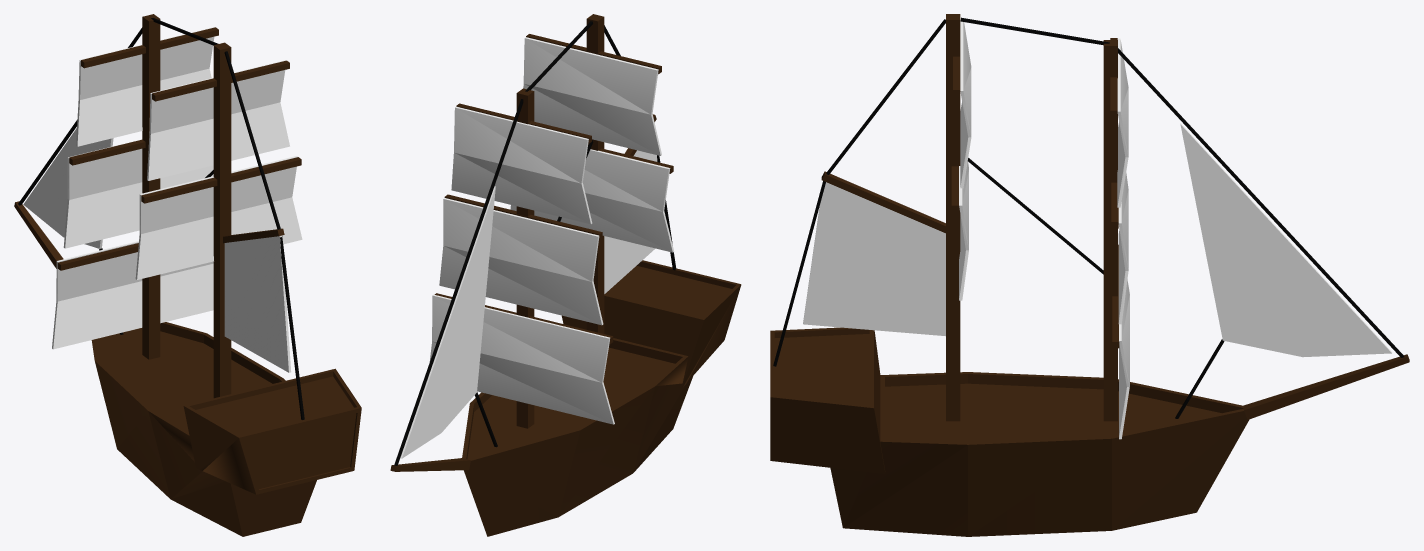
Rendered from IntroShip_IntroShip.glb.
3 views of the same model, side by side, from view 1: azimuth 30°, elevation 25°; view 2: azimuth 150°, elevation 25°; view 3: azimuth 270°, elevation 25° (orthographic). The views are drawn at different scales.
Parts seen in each view (by area): view 1: Box022, Hull, Box023; view 2: Box022, Hull, Box023; view 3: Hull, Box022, Box023.
Boxes of the visible parts, x1=… form: Box022: x1=23, y1=27, x2=302, y2=372; Hull: x1=14, y1=14, x2=361, y2=536; Box023: x1=18, y1=18, x2=304, y2=419; Box022: x1=400, y1=37, x2=674, y2=458; Hull: x1=390, y1=14, x2=741, y2=536; Box023: x1=394, y1=21, x2=676, y2=465; Hull: x1=770, y1=14, x2=1409, y2=536; Box022: x1=803, y1=18, x2=1392, y2=439; Box023: x1=773, y1=17, x2=1404, y2=418.
Bounding box in the file's own units: 5.34 × 12.08 × 14.11.
Materials: 1 (1 with a texture image).
